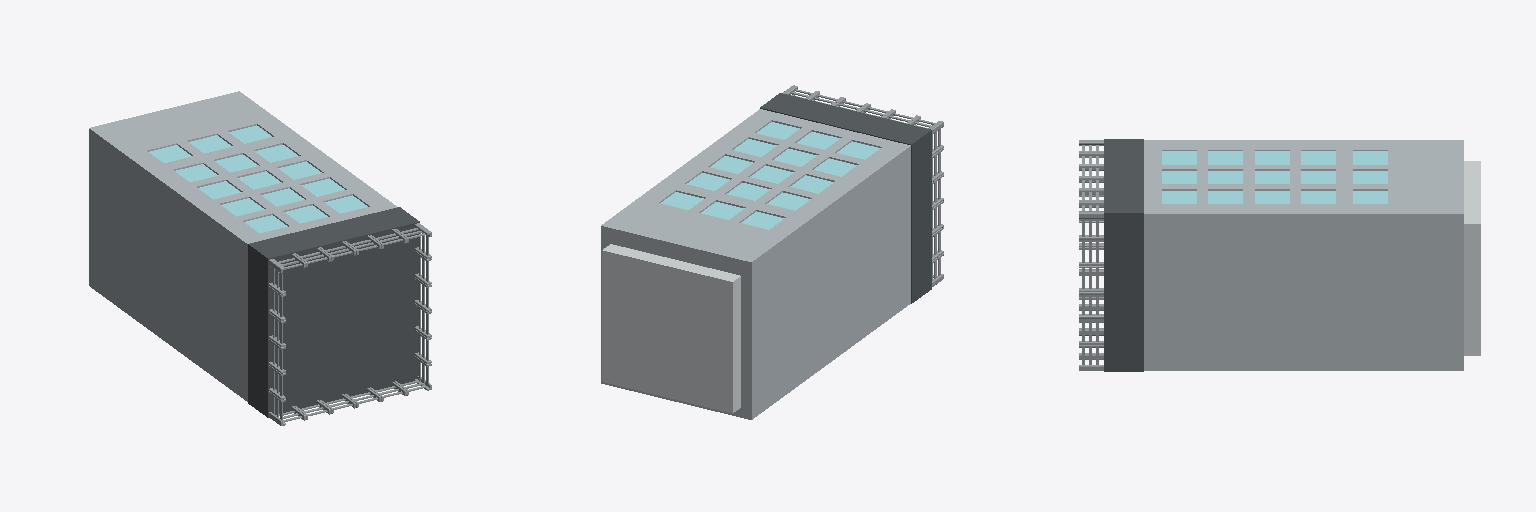
The model's file is tinker.obj.
3 views of the same model, side by side, from view 1: azimuth 30°, elevation 25°; view 2: azimuth 150°, elevation 25°; view 3: azimuth 270°, elevation 25° (orthographic).
Parts seen in each view (by area): view 1: obj_0; view 2: obj_0; view 3: obj_0.
Boxes of the visible parts, x1,y1,x2,y2 form: obj_0: [89, 91, 431, 425]; obj_0: [601, 85, 943, 419]; obj_0: [1079, 139, 1480, 371].
Size of the model in its own units: 30.2 by 30.5 by 69.3.